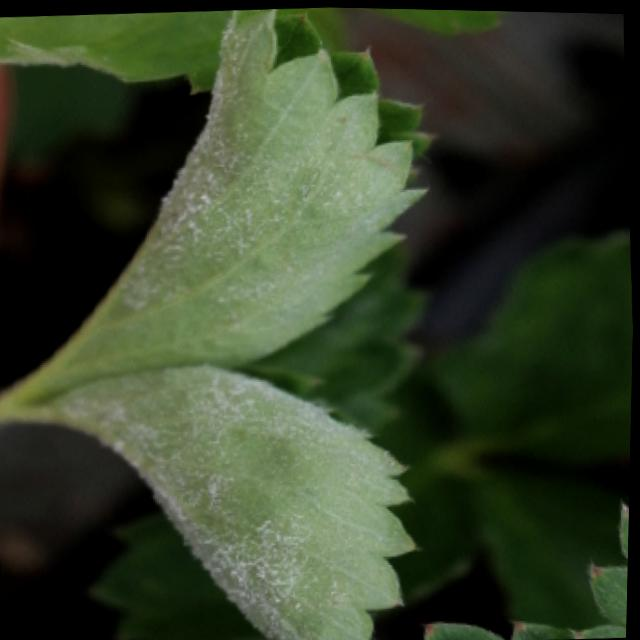Powdery Mildew Leaf: (10, 6, 440, 404), (16, 363, 428, 640)
